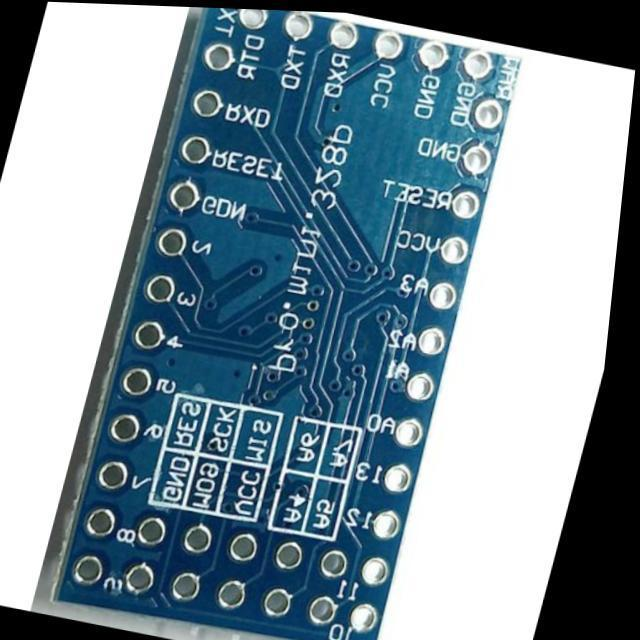Arduino-ProMini: (35, 10, 520, 640)
